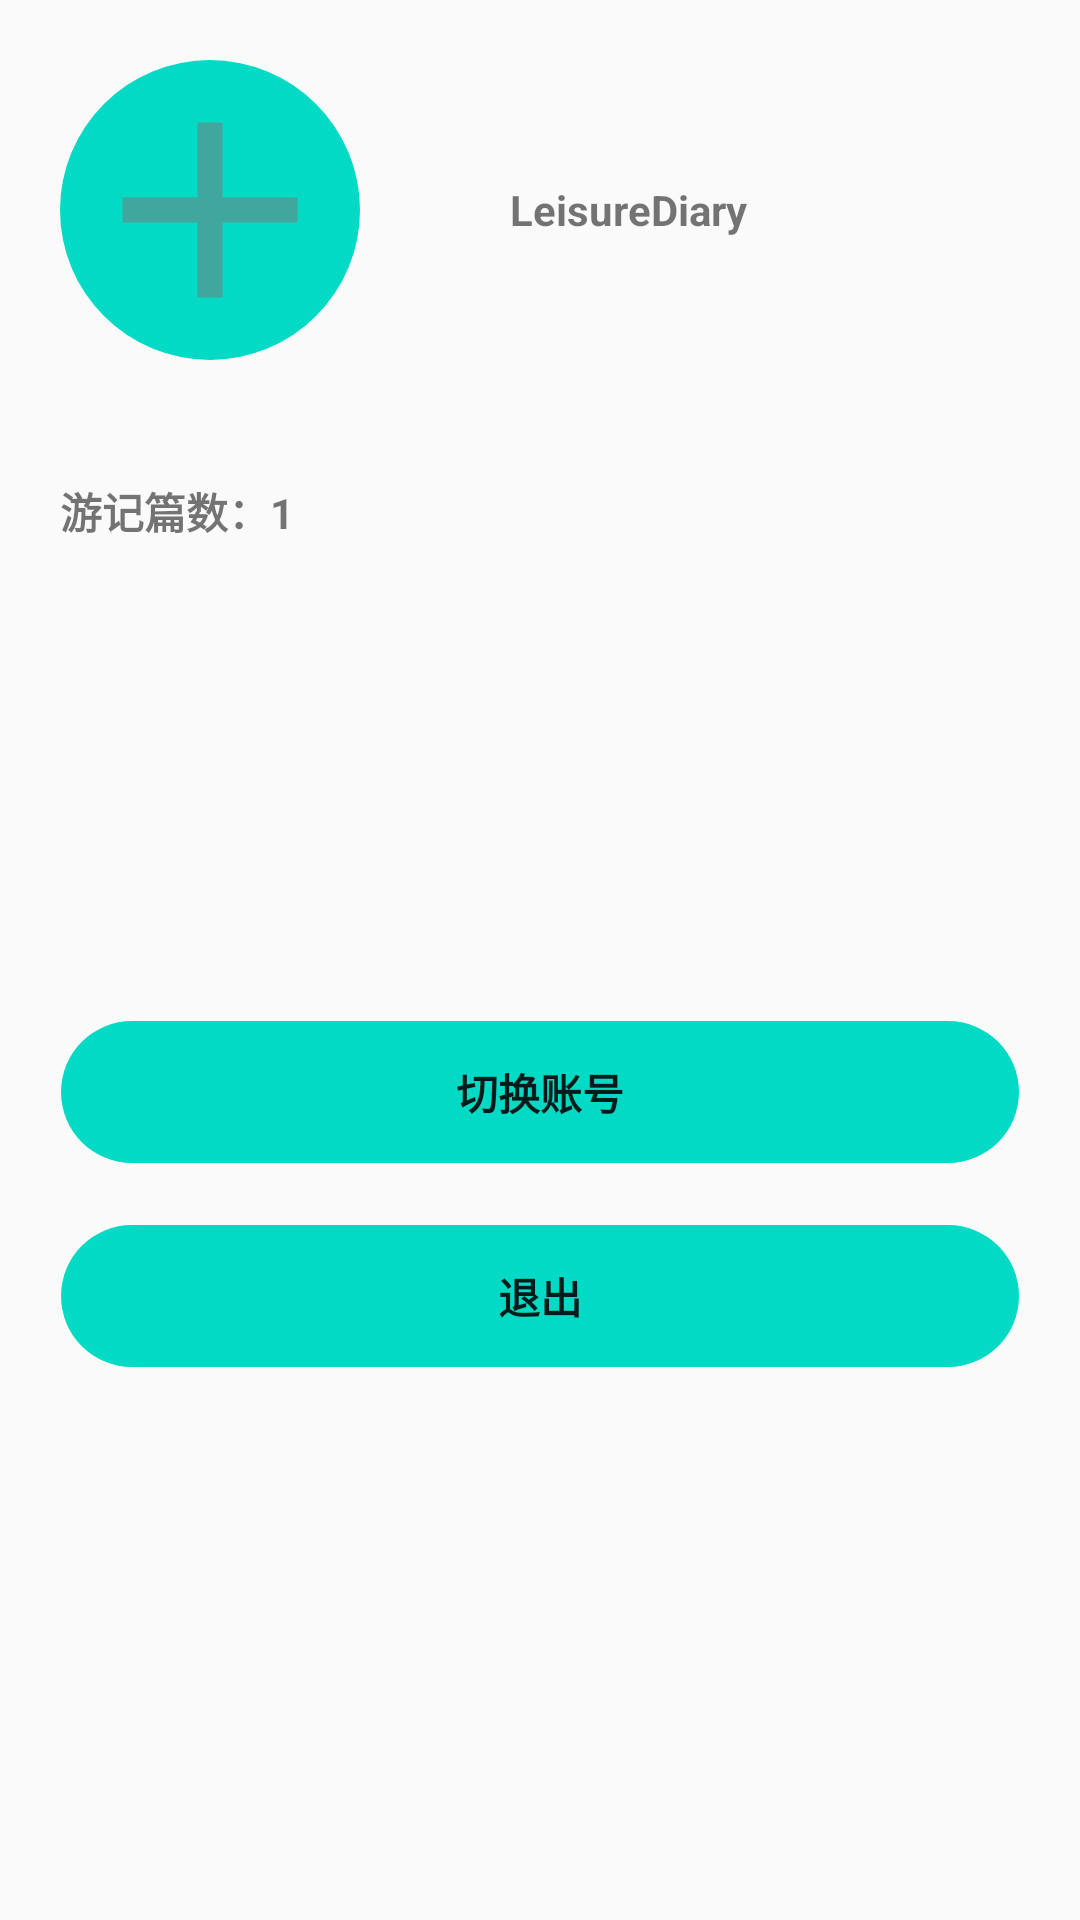

Where icons sit on this 1080 x 1920 app screen, as (x1, y1, x2, y2):
add head pic: (60, 60, 360, 360)
